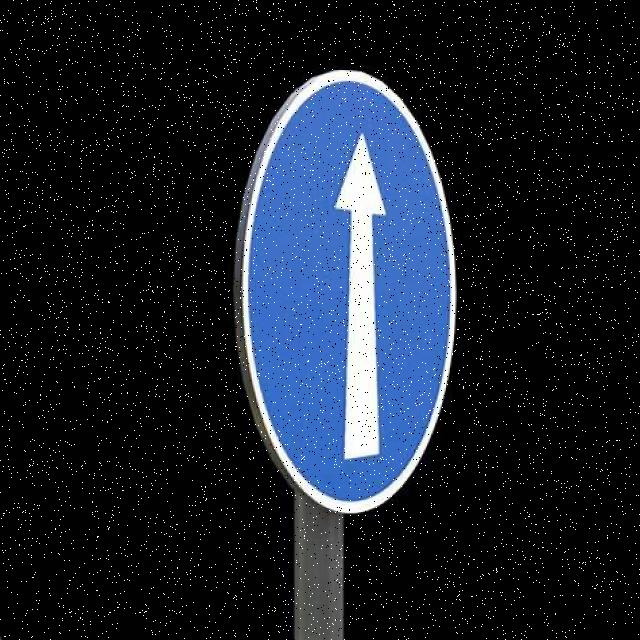compulsory_ahead: (235, 66, 461, 516)
